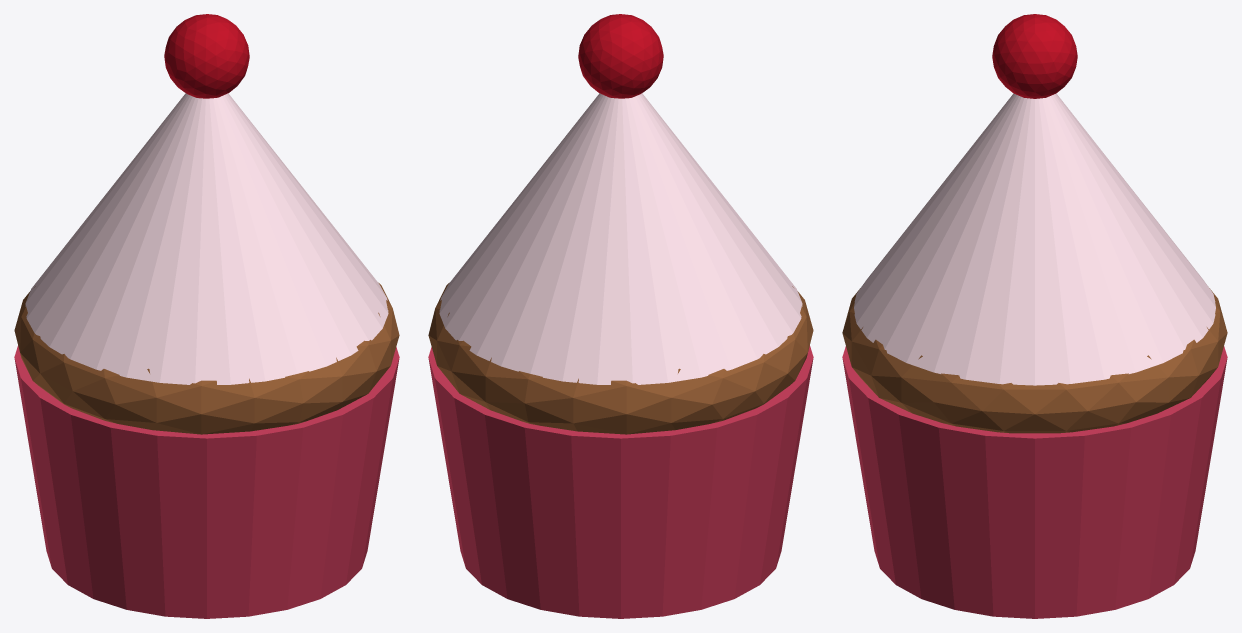
Rendered from pastel.glb.
3 views of the same model, side by side, from view 1: azimuth 30°, elevation 25°; view 2: azimuth 150°, elevation 25°; view 3: azimuth 270°, elevation 25° (orthographic).
Parts seen in each view (by area): view 1: pastel_2, pastel_0, pastel_1, pastel_3; view 2: pastel_2, pastel_0, pastel_1, pastel_3; view 3: pastel_2, pastel_0, pastel_1, pastel_3.
Part boxes in pixels (bbox=[...]): pastel_2: bbox=[25, 93, 388, 384]; pastel_0: bbox=[14, 345, 399, 618]; pastel_1: bbox=[14, 282, 399, 434]; pastel_3: bbox=[164, 14, 249, 98]; pastel_2: bbox=[439, 93, 802, 384]; pastel_0: bbox=[428, 345, 813, 618]; pastel_1: bbox=[428, 282, 813, 434]; pastel_3: bbox=[578, 14, 663, 98]; pastel_2: bbox=[854, 93, 1215, 385]; pastel_0: bbox=[842, 346, 1227, 618]; pastel_1: bbox=[842, 288, 1227, 433]; pastel_3: bbox=[992, 14, 1077, 98].
Bounding box in the file's own units: 0.072 × 0.11 × 0.072.
